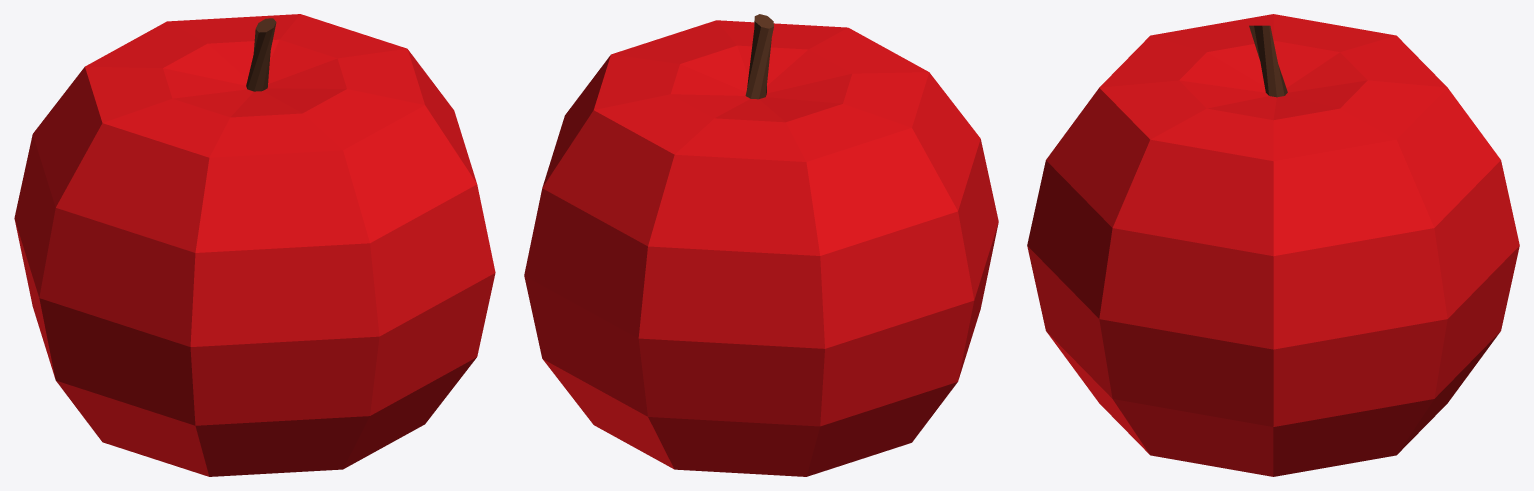
Rendered from apple.fbx.
3 renders of one model, left to right at view 1: azimuth 30°, elevation 25°; view 2: azimuth 150°, elevation 25°; view 3: azimuth 270°, elevation 25°, orthographic.
Parts seen in each view (by area): view 1: apple; view 2: apple; view 3: apple.
Boxes of the visible parts, <box> form: apple: <box>14,14,495,476</box>; apple: <box>524,14,998,476</box>; apple: <box>1027,14,1519,476</box>.
Bounding box in the file's own units: 160 × 148 × 160.
